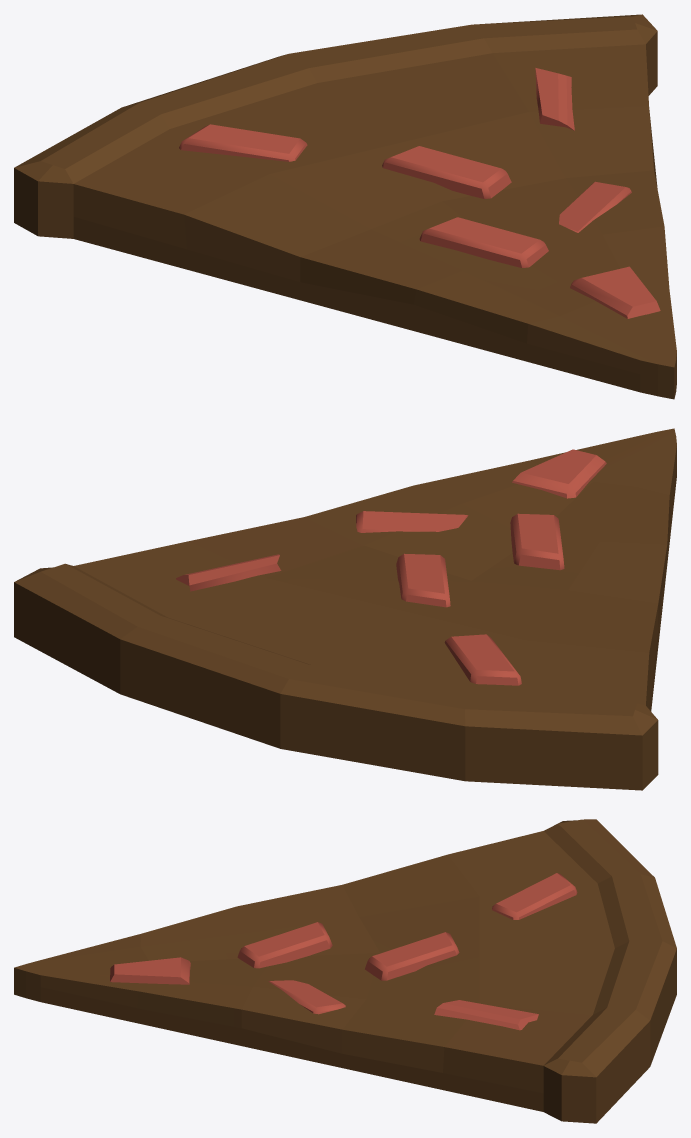
The model's file is BrownSlice.fbx.
The picture shows the model from 3 angles, top to bottom: view 1: azimuth 30°, elevation 25°; view 2: azimuth 150°, elevation 25°; view 3: azimuth 270°, elevation 25°; orthographic projection. The views are drawn at different scales.
Parts seen in each view (by area): view 1: Pizza_Slice; view 2: Pizza_Slice; view 3: Pizza_Slice.
Part boxes in pixels (x1,y1,x2,y2): Pizza_Slice: (14,14,676,399); Pizza_Slice: (14,428,676,790); Pizza_Slice: (14,819,676,1123).
Size of the model in its own units: 107 by 10.66 by 116.
